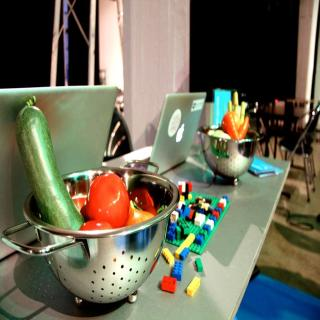tomato: (84, 180, 125, 228)
